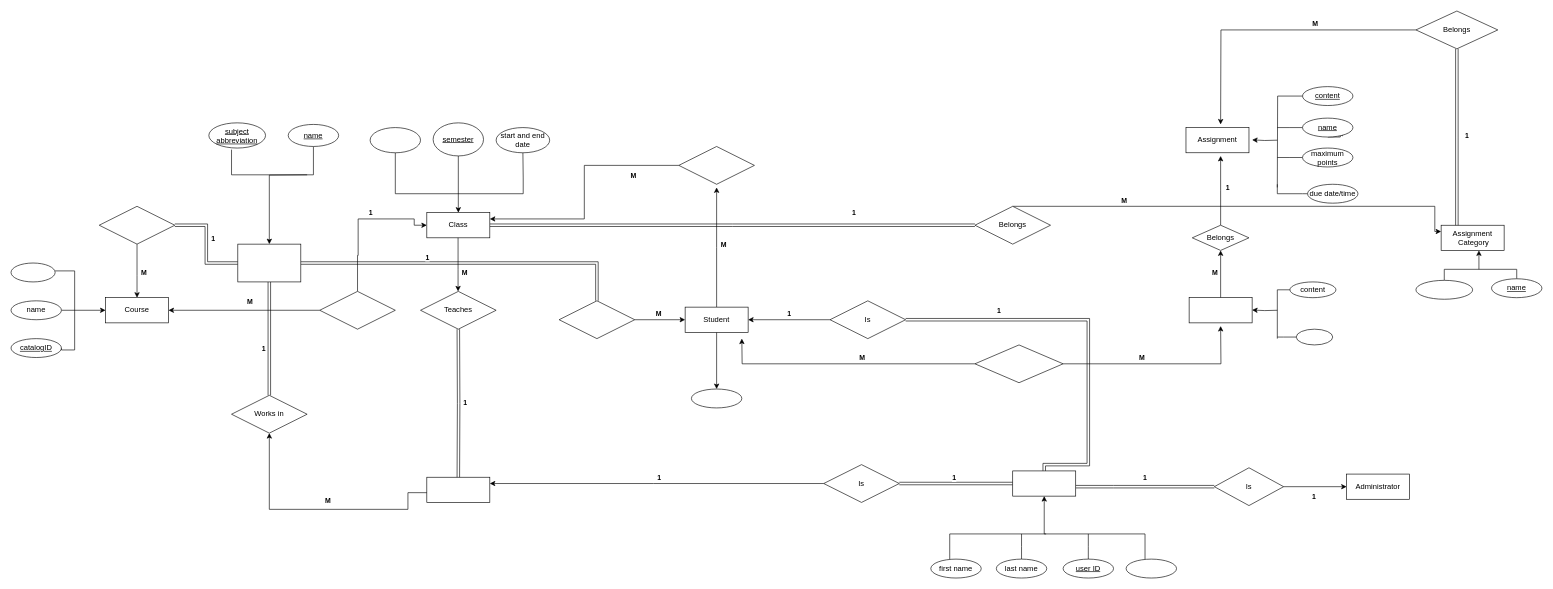
Image size: 1553x589. Some labels were removed from this diagram. The shapes that lost their labels are listed below. From the top down, each one's box as (x1, y1, x2, y2) in pixels, then its label:
(369, 127, 421, 153): location
(678, 146, 754, 184): Enrolled in
(99, 206, 175, 244): Listed
(10, 262, 55, 282): number
(237, 243, 301, 282): Department
(1415, 280, 1473, 299): grade weight
(319, 291, 395, 329): Offers
(558, 300, 635, 339): Majors in
(1188, 297, 1252, 323): Submission
(1296, 329, 1333, 345): score
(974, 344, 1063, 383): Submits
(691, 388, 742, 408): grade
(426, 477, 490, 502): Professor
(1012, 470, 1076, 496): User
(1125, 558, 1177, 578): date of birth
